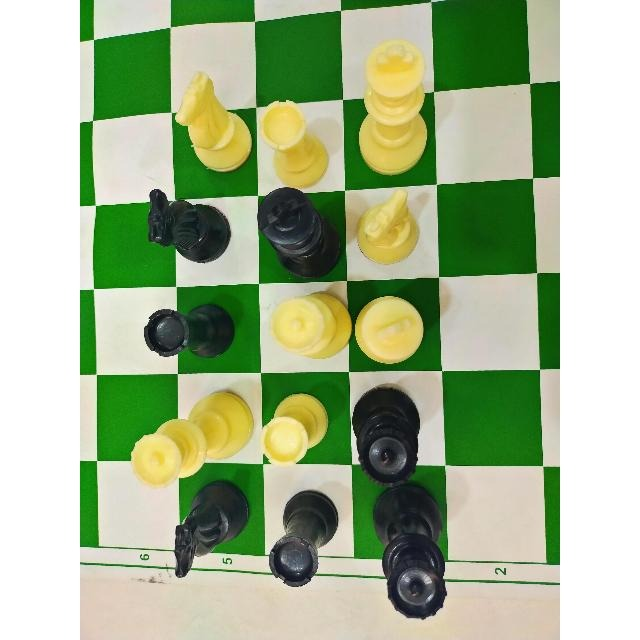black-king: (253, 183, 344, 280)
black-knight: (162, 474, 254, 582), (142, 183, 232, 271)
black-queen: (371, 481, 455, 623), (350, 380, 422, 487), (270, 289, 350, 363)
black-rook: (264, 486, 344, 591), (138, 301, 238, 361)
white-king: (356, 34, 432, 182), (354, 291, 432, 369)
white-knight: (170, 69, 257, 180), (352, 187, 423, 267)
white-queen: (128, 378, 258, 495)
white-rook: (257, 95, 334, 191), (258, 386, 336, 470)
